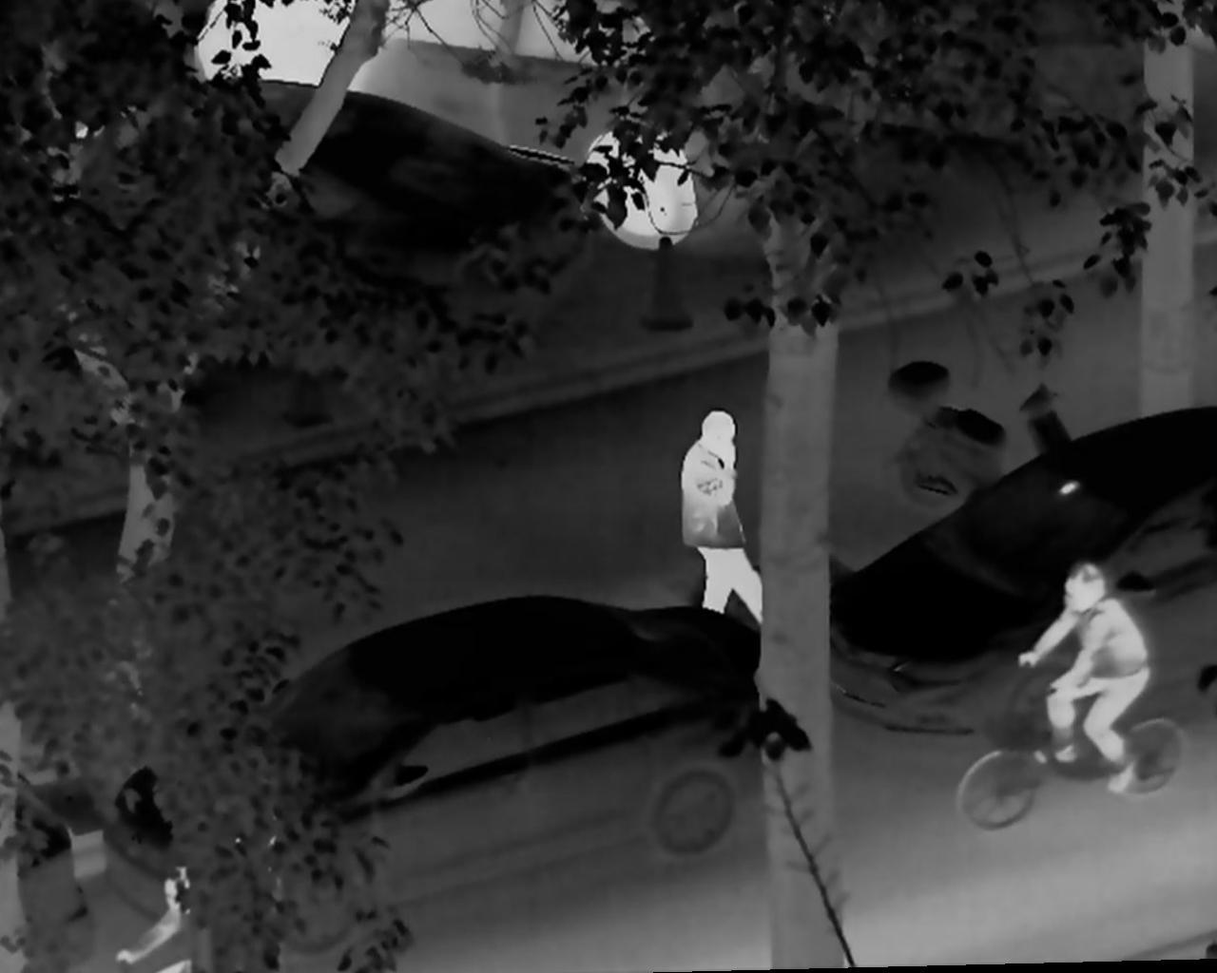person: (1010, 555, 1154, 805), (675, 409, 761, 629), (116, 866, 208, 973)
